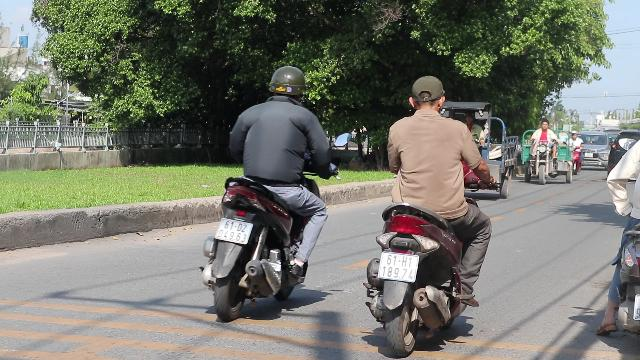helmet: (266, 64, 308, 103)
licenseplate: (378, 253, 419, 284), (215, 219, 253, 245)
motorcyclist: (360, 74, 496, 352), (199, 63, 335, 321)
nohelmet: (408, 74, 448, 114)
